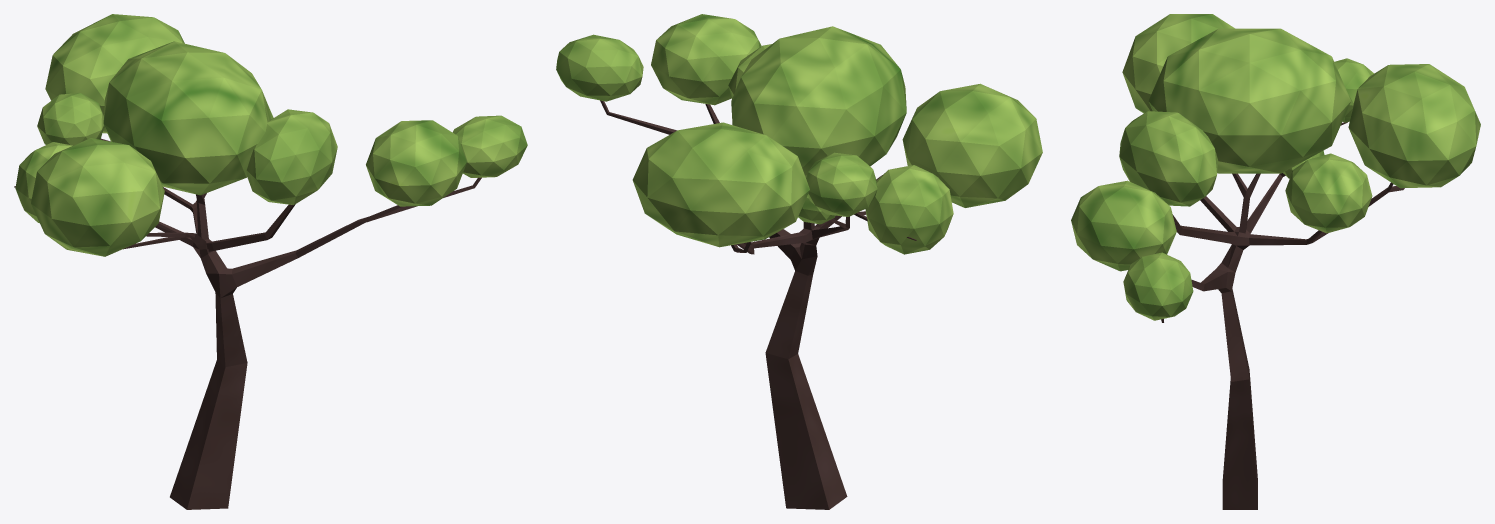
The model's file is tree181.fbx.
The picture shows the model from 3 angles, left to right: view 1: azimuth 30°, elevation 25°; view 2: azimuth 150°, elevation 25°; view 3: azimuth 270°, elevation 25°; orthographic projection. The views are drawn at different scales.
Parts seen in each view (by area): view 1: tree181; view 2: tree181; view 3: tree181.
Boxes of the visible parts, box(x1,y1,x2,y2) form: tree181: box(14, 14, 527, 509); tree181: box(556, 14, 1042, 509); tree181: box(1071, 14, 1480, 509).
Size of the model in its own units: 1246 by 1153 by 926.
